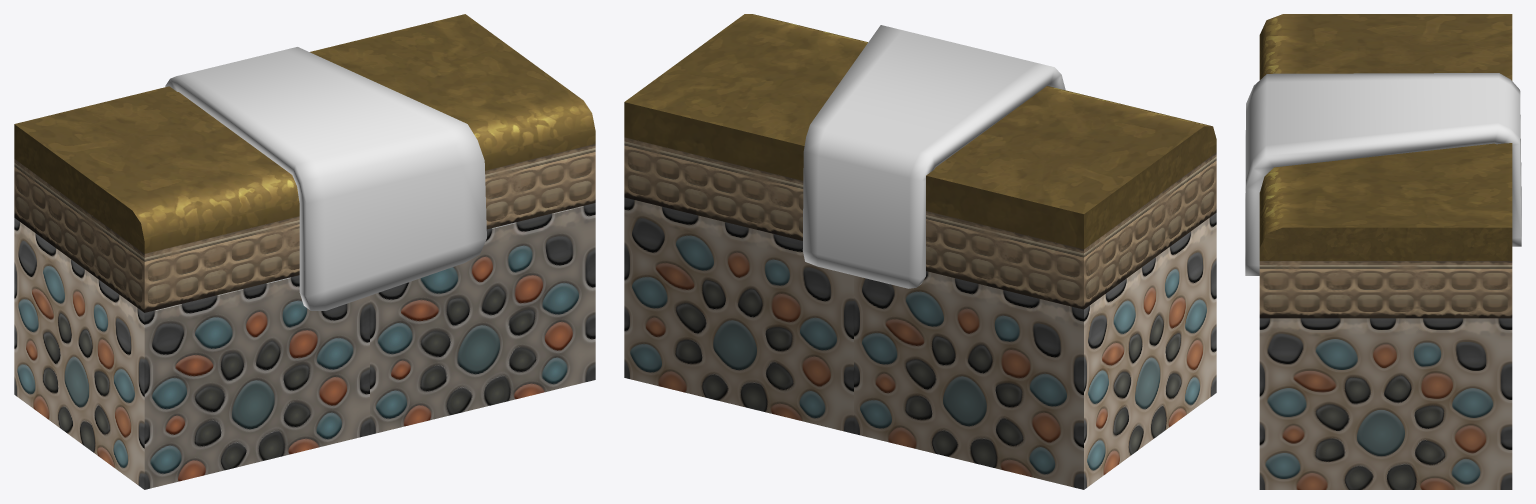
File: DI_094_towel_over_counter.glb
3 renders of one model, left to right at view 1: azimuth 30°, elevation 25°; view 2: azimuth 150°, elevation 25°; view 3: azimuth 270°, elevation 25°, orthographic. The views are drawn at different scales.
Visible parts, largest first — view 1: Counter, Shelf, Towel; view 2: Counter, Shelf, Towel; view 3: Counter, Shelf, Towel.
Part boxes in pixels (left/top/right/bottom): Counter: left=14, top=144, right=595, bottom=489; Shelf: left=14, top=14, right=595, bottom=253; Towel: left=165, top=47, right=486, bottom=310; Counter: left=624, top=137, right=1216, bottom=489; Shelf: left=624, top=14, right=1216, bottom=249; Towel: left=802, top=25, right=1065, bottom=288; Counter: left=1259, top=261, right=1512, bottom=489; Shelf: left=1259, top=14, right=1512, bottom=260; Towel: left=1245, top=73, right=1521, bottom=275.
Size of the model in its own units: 1.5 by 0.9081 by 0.82.
4 materials, 3 textured.
